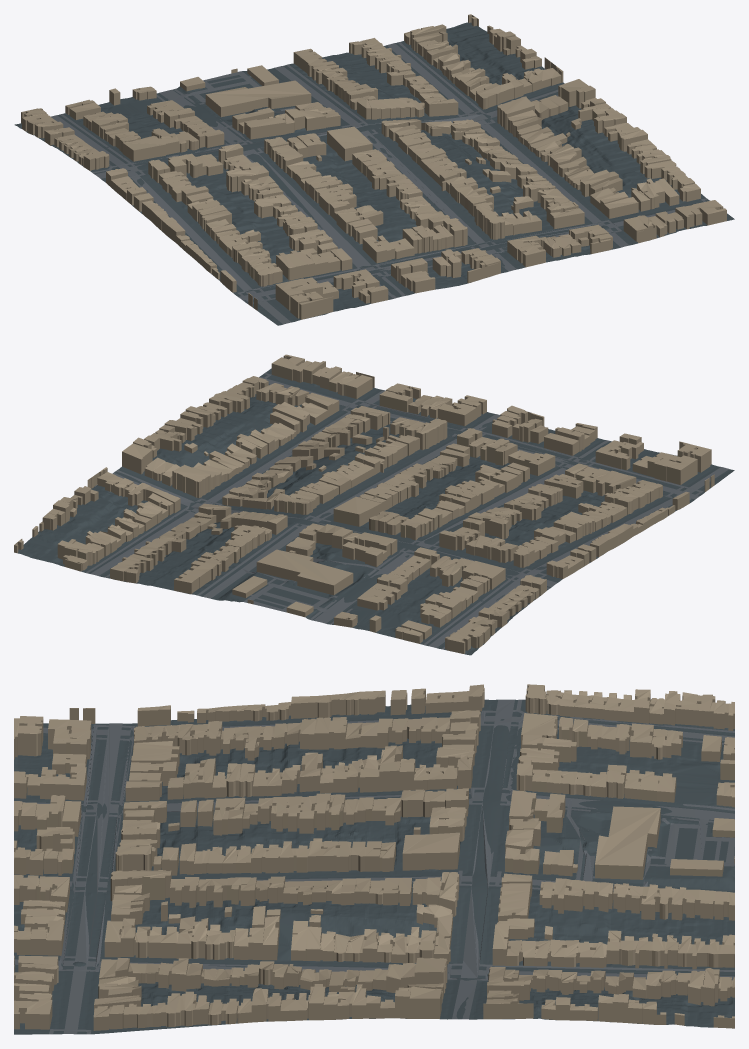
The model's file is epsg26910-1420-10888.lod0.glb.
The picture shows the model from 3 angles, top to bottom: view 1: azimuth 30°, elevation 25°; view 2: azimuth 150°, elevation 25°; view 3: azimuth 270°, elevation 25°; orthographic projection. The views are drawn at different scales.
Parts seen in each view (by area): view 1: epsg26910-1420-10888-lod0; view 2: epsg26910-1420-10888-lod0; view 3: epsg26910-1420-10888-lod0.
Boxes of the visible parts, box(x1,y1,x2,y2) form: epsg26910-1420-10888-lod0: box(14, 14, 734, 325); epsg26910-1420-10888-lod0: box(14, 354, 734, 655); epsg26910-1420-10888-lod0: box(14, 684, 734, 1034).
Size of the model in its own units: 384 by 28.24 by 384.
